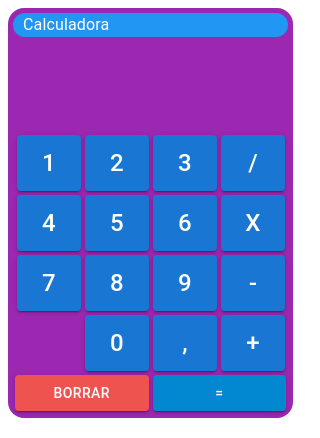
Test: Calculadora › Debe mostrar el resultado de la operacion
Click the button "1". click: [49, 163]
box: top-left (17, 135), bottom-right (81, 191)
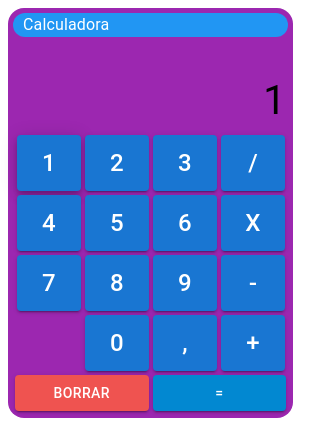
Click the button "+". click: [253, 343]
box: top-left (221, 315), bottom-right (285, 371)
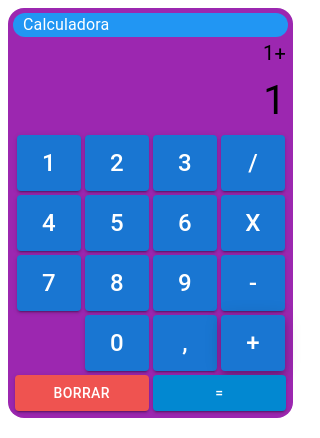
Click the button "1". click: [49, 163]
box: top-left (17, 135), bottom-right (81, 191)
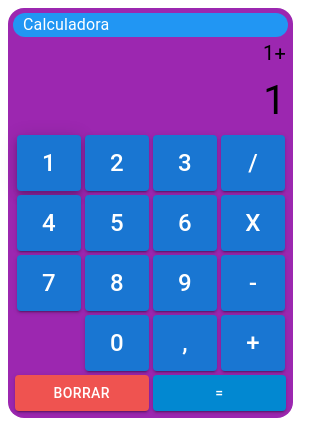
Click the button "=". click: [219, 393]
box: top-left (152, 375), bottom-right (286, 411)
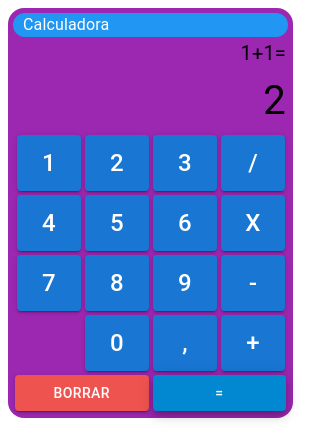
expect the field with test id "resultado" holds "2": met, box top-left (13, 70), bottom-right (288, 131)
